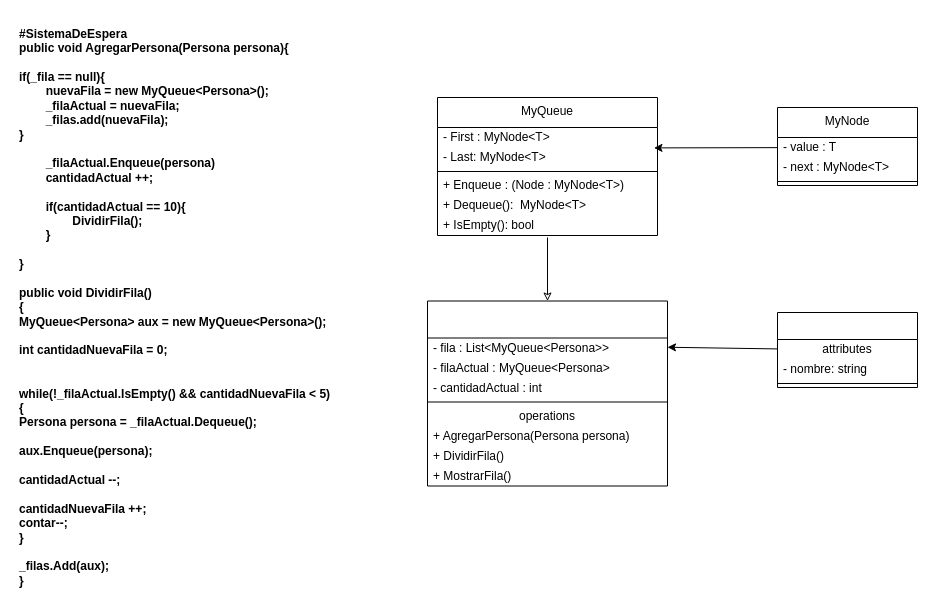
Some shapes in this 935 by 614 pixel diagram are drawn without their labels. Each missing label, with the box of its shape:
Persona: (776, 312, 918, 388)
SistemaDeEspera: (426, 300, 668, 486)
